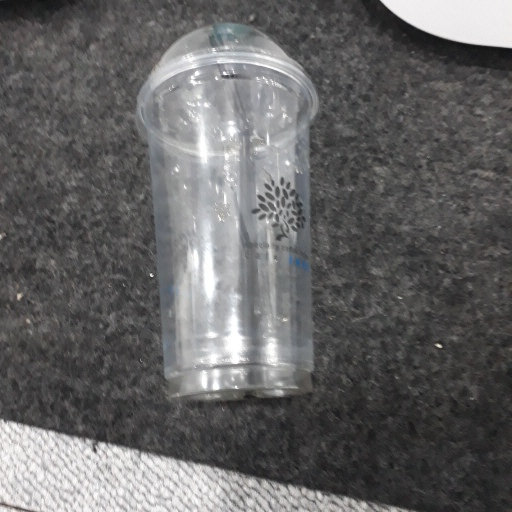Plastic_2: (133, 7, 323, 407)
